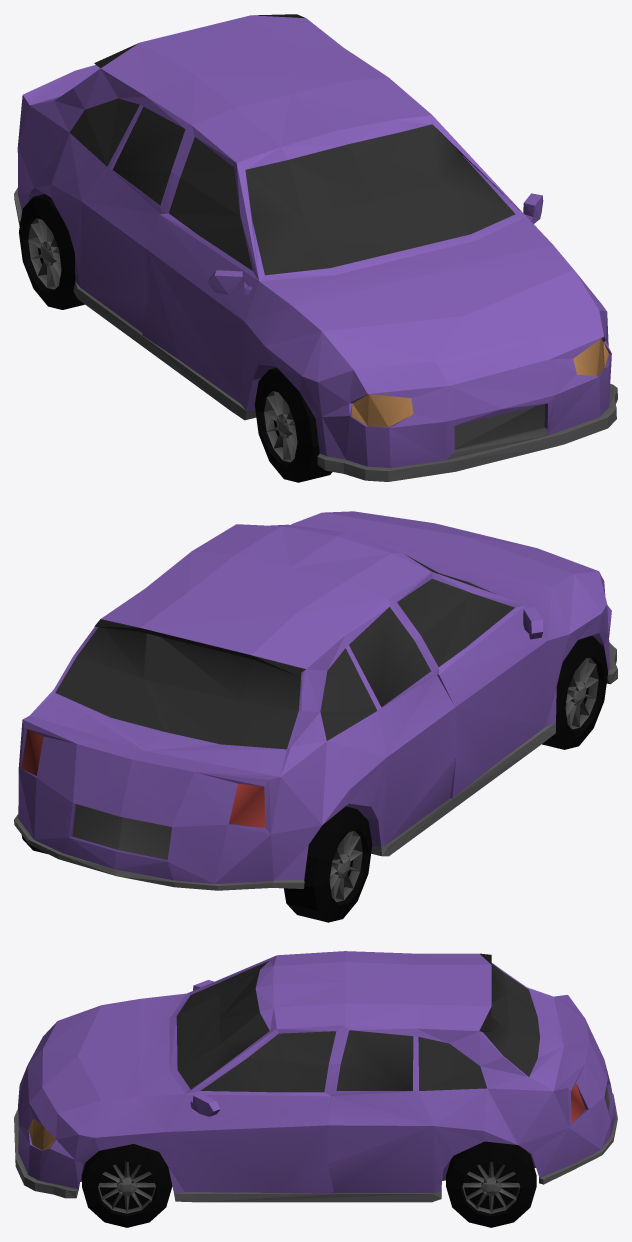
File: car-purple.glb
3 renders of one model, top to bottom at view 1: azimuth 30°, elevation 25°; view 2: azimuth 150°, elevation 25°; view 3: azimuth 270°, elevation 25°, orthographic. The views are drawn at different scales.
Visible parts, largest first — view 1: car-purple; view 2: car-purple; view 3: car-purple.
Part boxes in pixels (x1,y1,x2,y2): car-purple: (14,14,617,482); car-purple: (14,511,617,922); car-purple: (14,951,617,1227).
Size of the model in its own units: 2.07 by 1.45 by 4.19.
